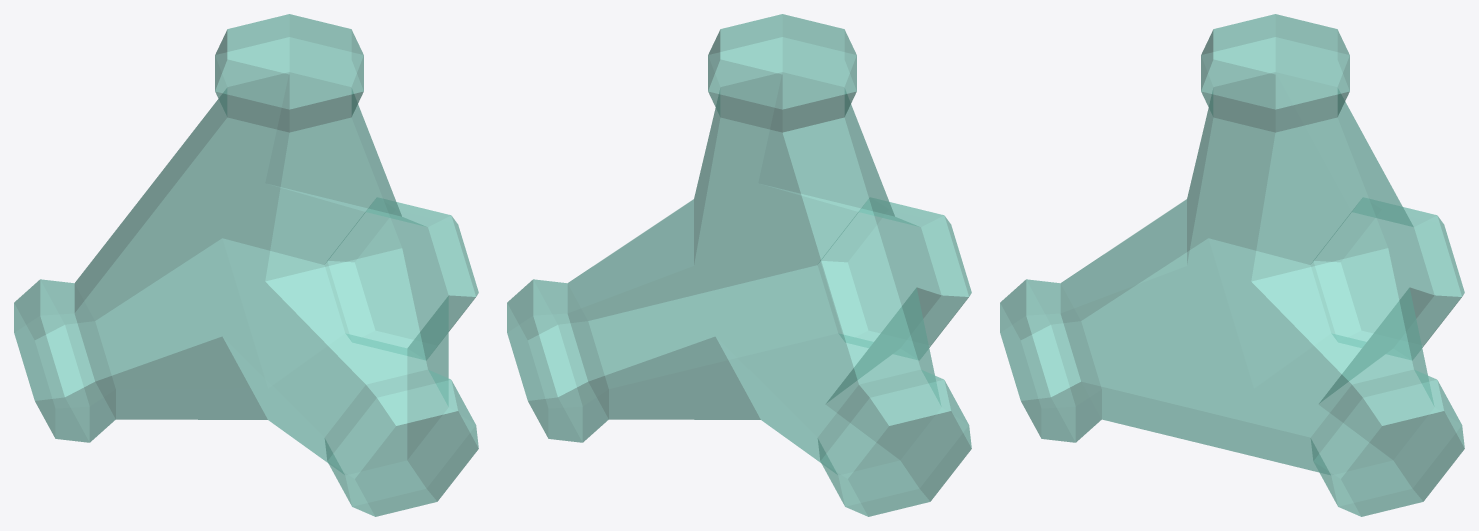
The model's file is tetrapod.glb.
3 renders of one model, left to right at view 1: azimuth 30°, elevation 25°; view 2: azimuth 150°, elevation 25°; view 3: azimuth 270°, elevation 25°, orthographic.
Parts seen in each view (by area): view 1: Tetrapod_real_logo_mat; view 2: Tetrapod_real_logo_mat; view 3: Tetrapod_real_logo_mat.
Part boxes in pixels (left/top/right/bottom): Tetrapod_real_logo_mat: left=14, top=14, right=478, bottom=516; Tetrapod_real_logo_mat: left=507, top=14, right=971, bottom=516; Tetrapod_real_logo_mat: left=1000, top=14, right=1464, bottom=516.
Bounding box in the file's own units: 2.24 × 1.83 × 2.03.
